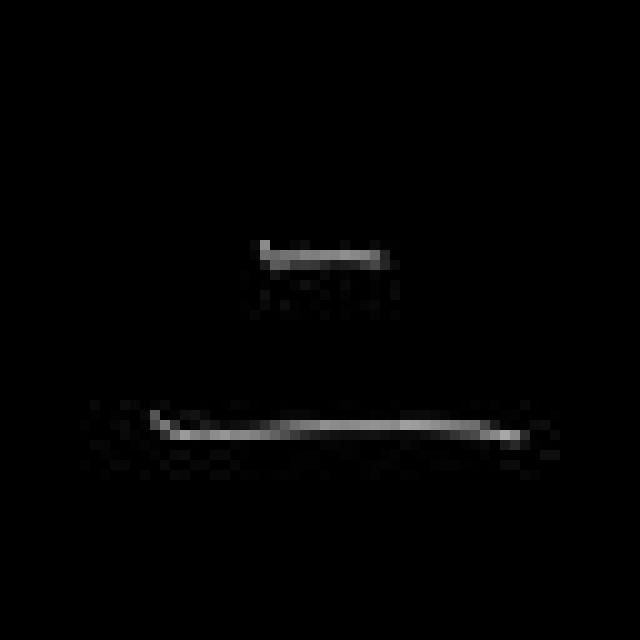2 -two-: (136, 222, 540, 478)
